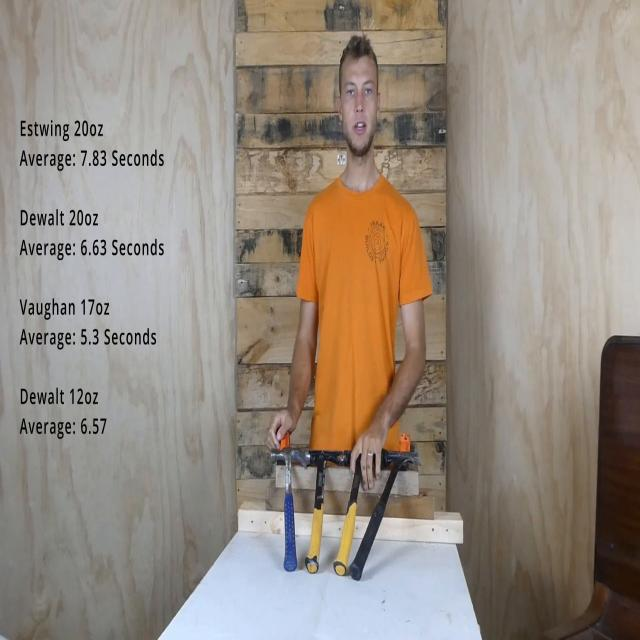hammer: (348, 448, 421, 580), (332, 451, 383, 577), (304, 451, 343, 574), (270, 448, 306, 571)
